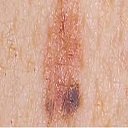Melanoma: (47, 17, 82, 120)
